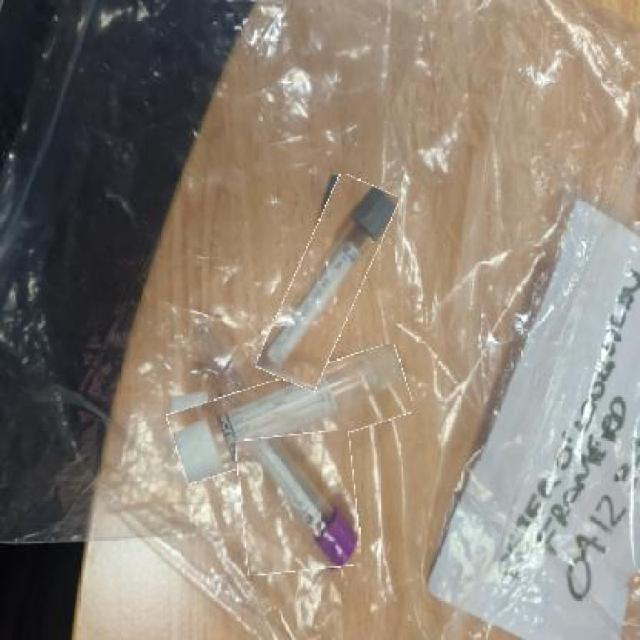Experimental-tube: (168, 359, 412, 467), (275, 174, 380, 389), (238, 431, 358, 572)
